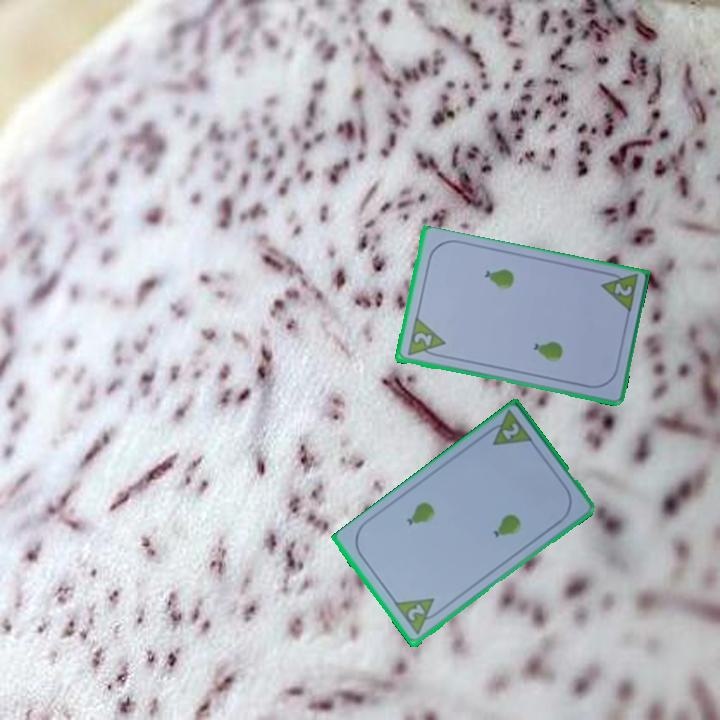2p: (481, 408, 536, 449), (596, 268, 641, 317), (403, 315, 447, 361), (404, 601, 428, 624)
